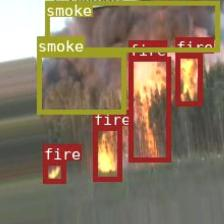fire: (128, 56, 170, 161), (92, 125, 121, 181), (175, 53, 201, 105), (42, 160, 65, 182)
smoke: (43, 0, 218, 51), (36, 52, 125, 113)
